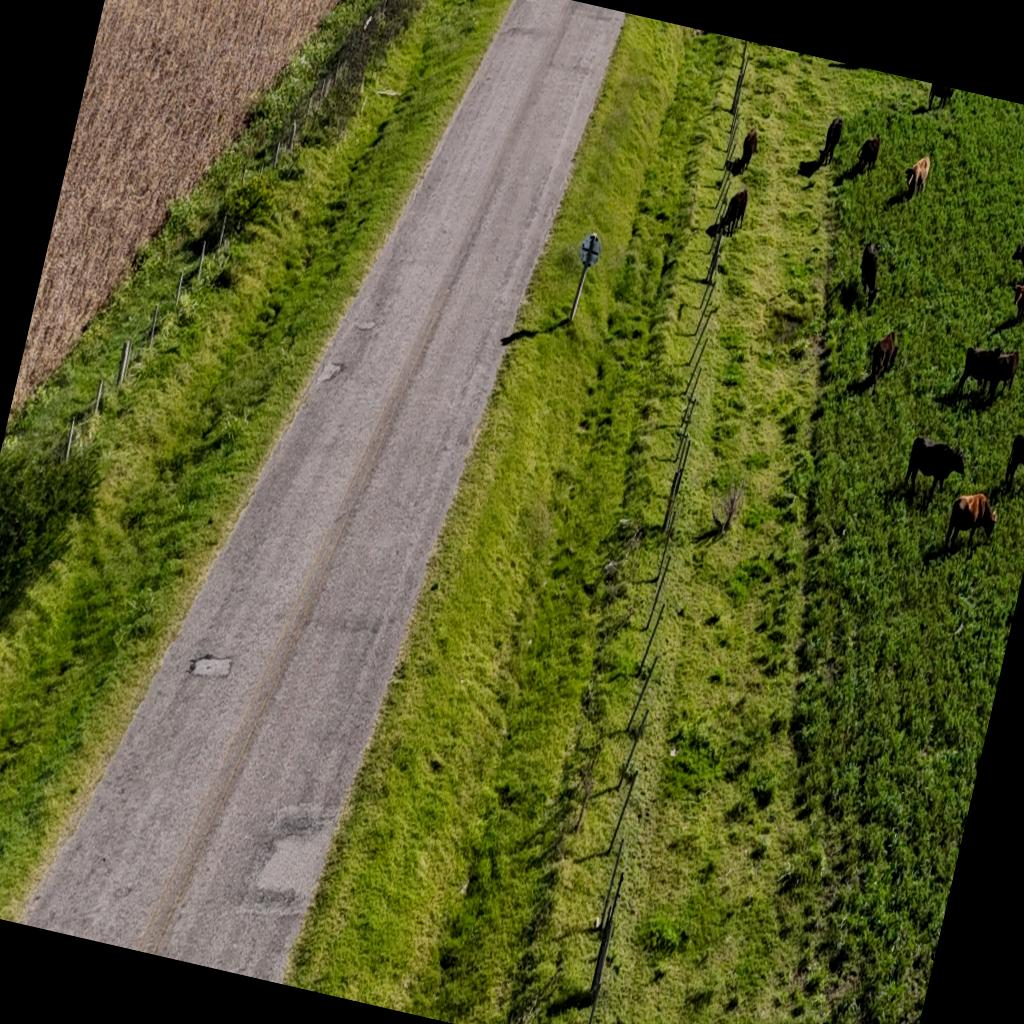cow: (900, 433, 970, 515), (942, 486, 1002, 562), (954, 338, 1004, 408), (862, 328, 902, 402), (850, 238, 890, 310), (898, 150, 933, 205), (988, 344, 1022, 399), (720, 182, 752, 238), (732, 122, 761, 177), (1002, 427, 1024, 496), (818, 114, 846, 168), (852, 131, 882, 179), (1007, 267, 1024, 329), (1007, 231, 1024, 287), (926, 84, 954, 116)
